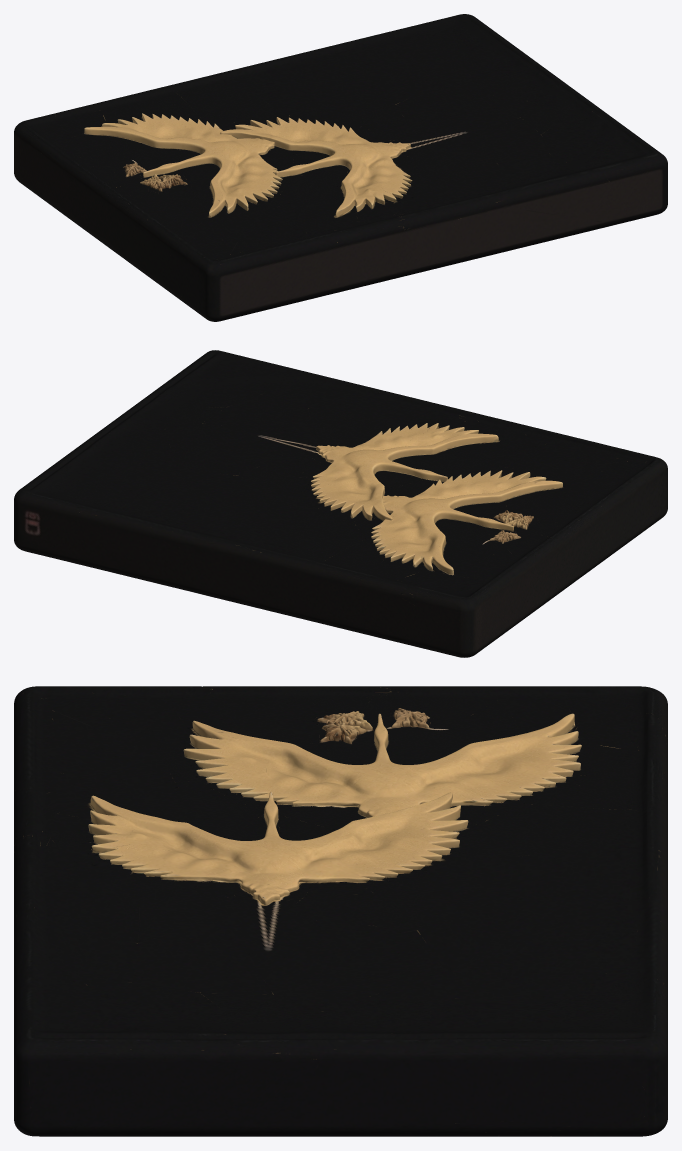
3 renders of one model, top to bottom at view 1: azimuth 30°, elevation 25°; view 2: azimuth 150°, elevation 25°; view 3: azimuth 270°, elevation 25°, orthographic. The views are drawn at different scales.
Bounding box in the file's own units: 1.9 × 0.2545 × 1.44.
Materials: 1 (1 with a texture image).
